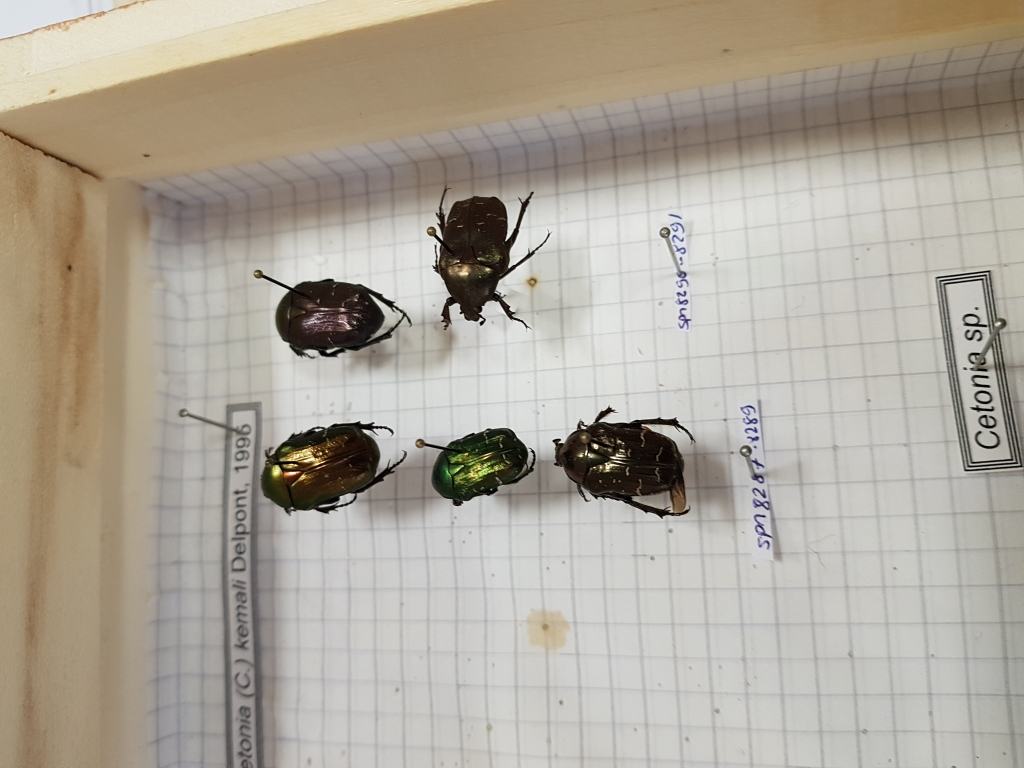Cetonia_kemali: (427, 179, 565, 339), (551, 395, 698, 528), (255, 399, 409, 518), (267, 266, 423, 365), (427, 407, 545, 511)
